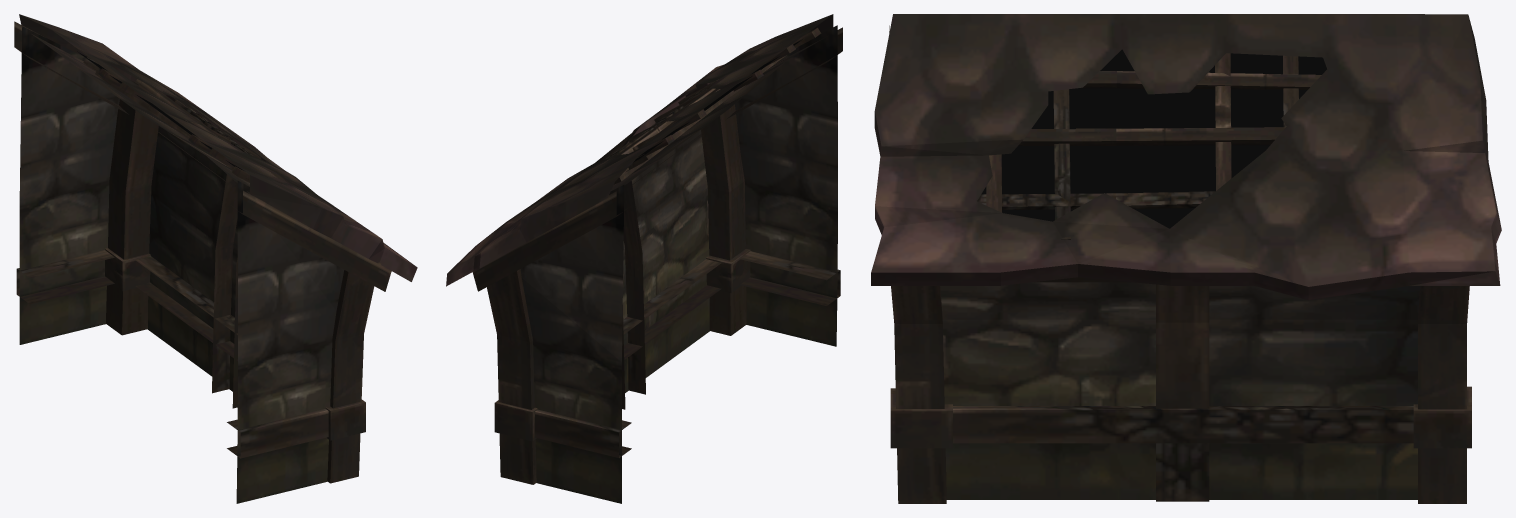
Rendered from mod_building_damaged_01_c.fbx.
The picture shows the model from 3 angles, left to right: view 1: azimuth 30°, elevation 25°; view 2: azimuth 150°, elevation 25°; view 3: azimuth 270°, elevation 25°; orthographic projection. The views are drawn at different scales.
Parts seen in each view (by area): view 1: obj1.095; view 2: obj1.095; view 3: obj1.095.
Part boxes in pixels (x1=…): obj1.095: x1=14, y1=14, x2=417, y2=503; obj1.095: x1=446, y1=14, x2=842, y2=503; obj1.095: x1=871, y1=14, x2=1501, y2=503.
Bounding box in the file's own units: 2.58 × 4.62 × 6.27.
